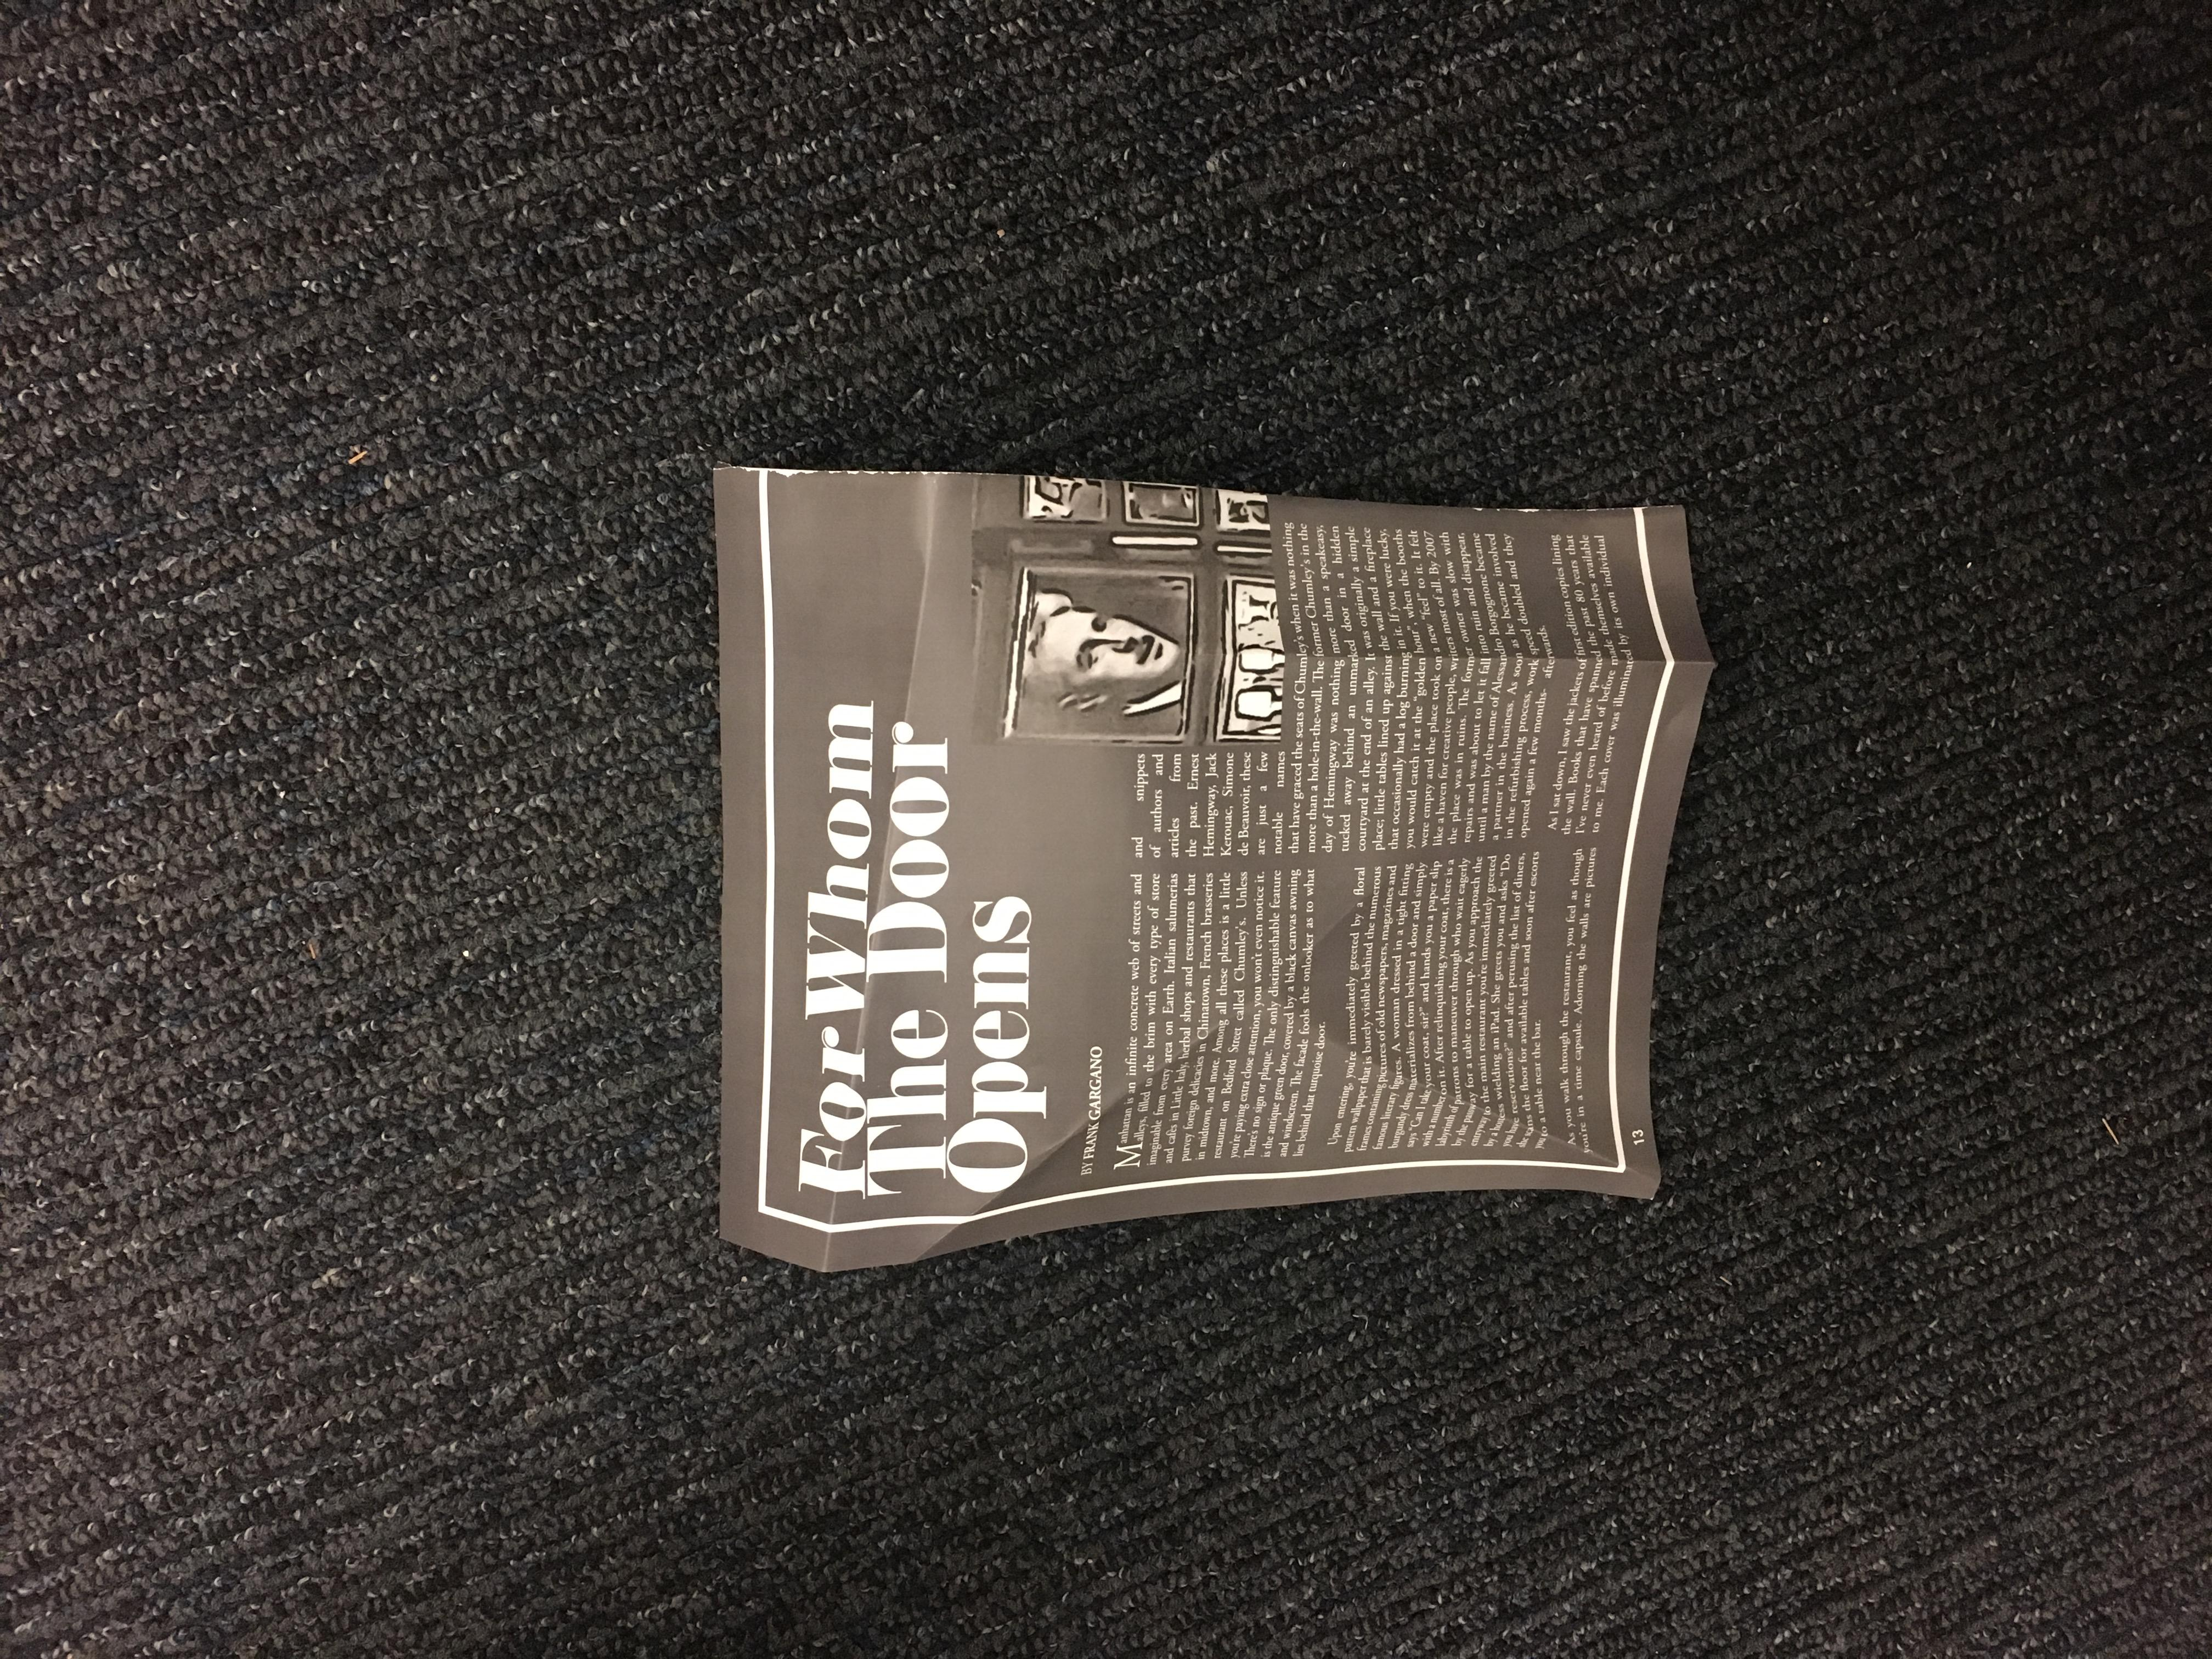paper: (340, 441, 1811, 1534)
